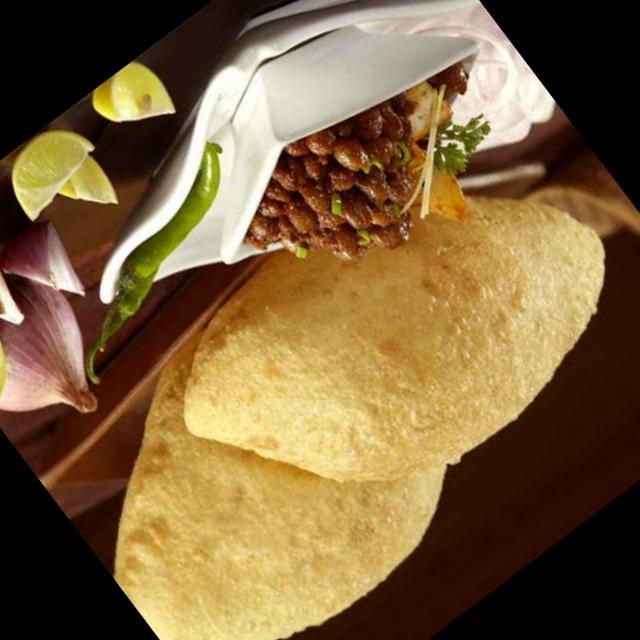Bhatura: (14, 89, 640, 640)
Chole: (226, 34, 536, 320)
